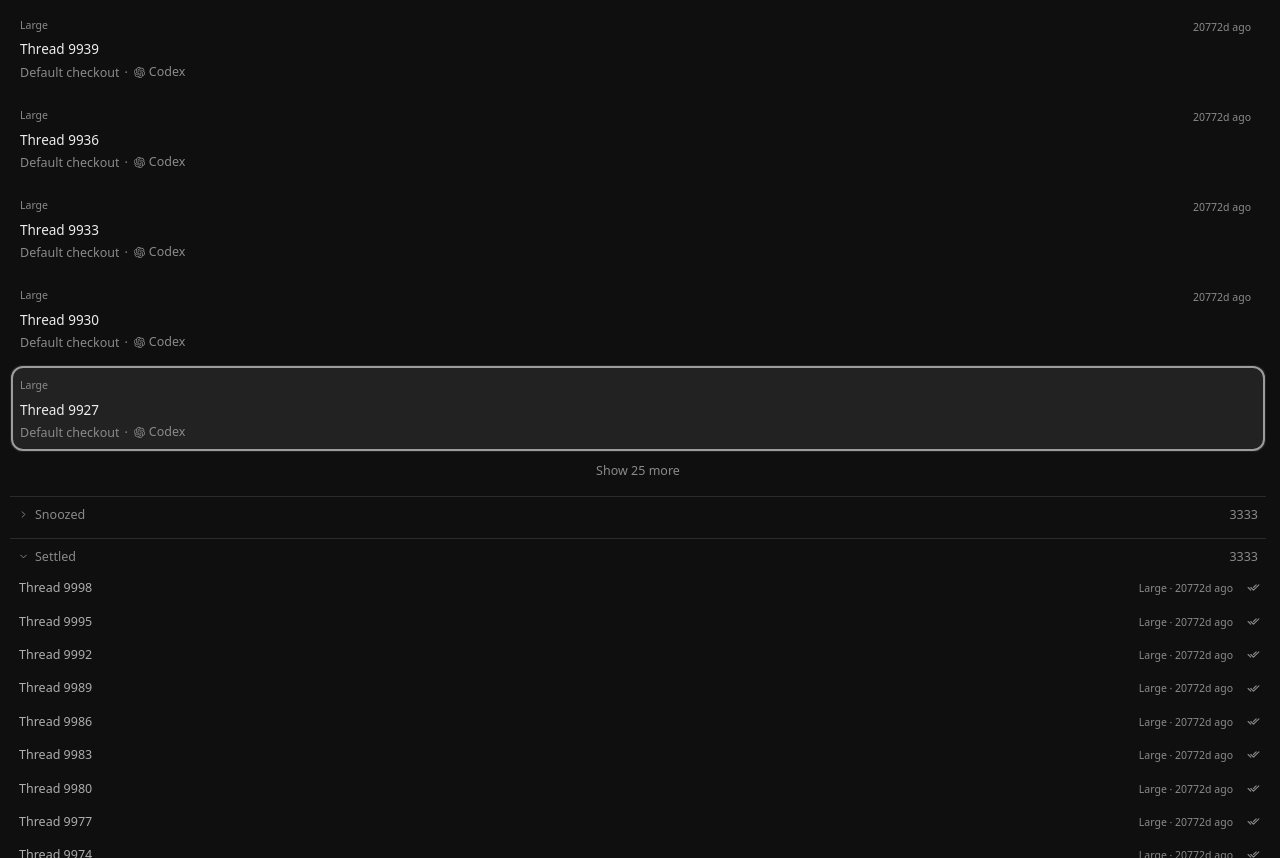
InboxSidebar › bounds the mounted rows for 10,000 threads
Later steps or results of the test are not shown.
(page scrolled)
Check: the button with class "inbox__more" is shown, box [10,455,1266,487]
Press ArrowDown in the 6th button with class "inbox-card__main", box [11,366,1265,451]
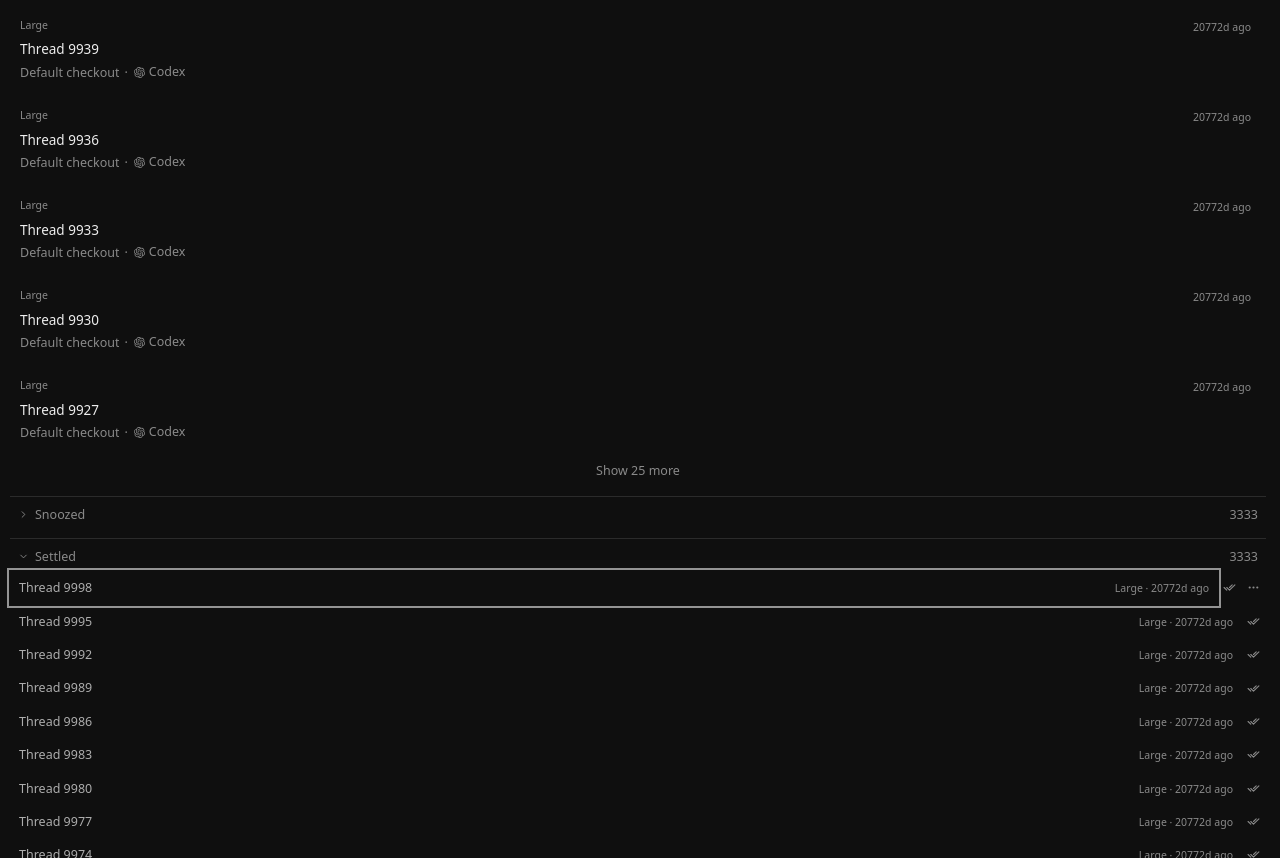
Click the button "Snoozed 3333". click: coordinates (60, 514)
box: [10,500,1266,529]
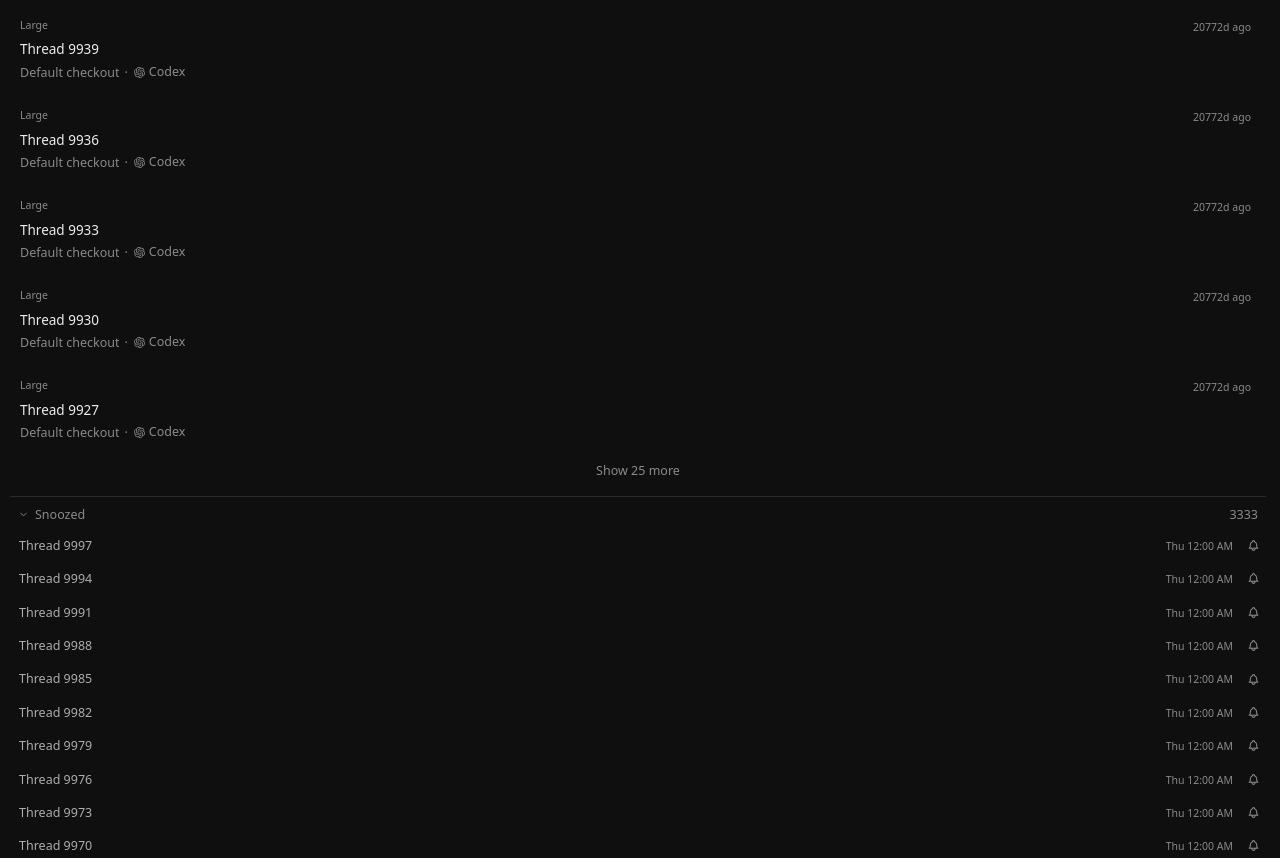
Check: the number of list items with class "inbox-shelf__row" is 35
